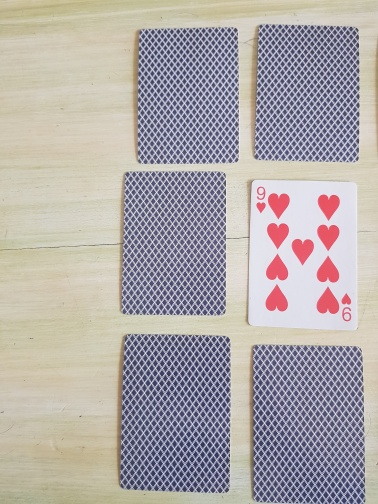nine: (246, 178, 359, 332)
